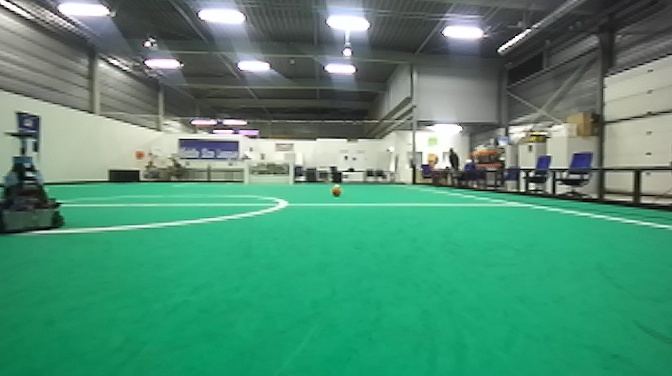ball: (328, 183, 346, 201)
goal: (242, 159, 295, 187)
goalpost: (286, 158, 295, 187), (242, 160, 251, 186)
robot: (1, 125, 71, 240)
